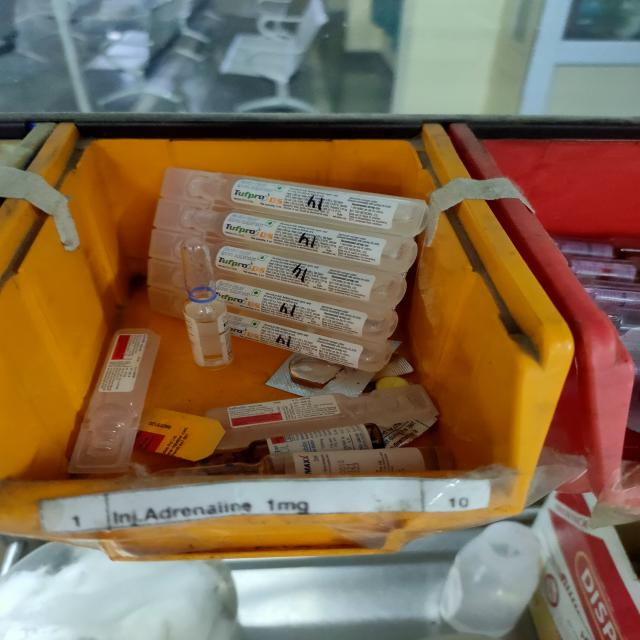B3: (154, 164, 427, 364), (57, 332, 161, 473), (193, 426, 444, 471), (178, 237, 236, 366)
